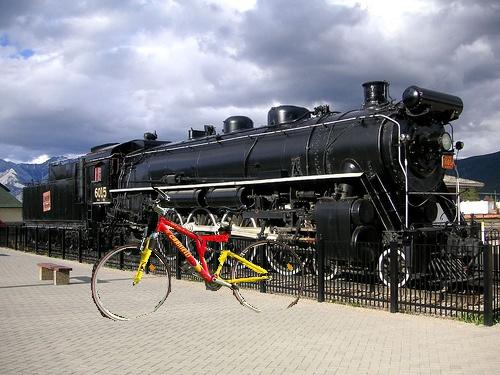tampered: (92, 188, 304, 321)
